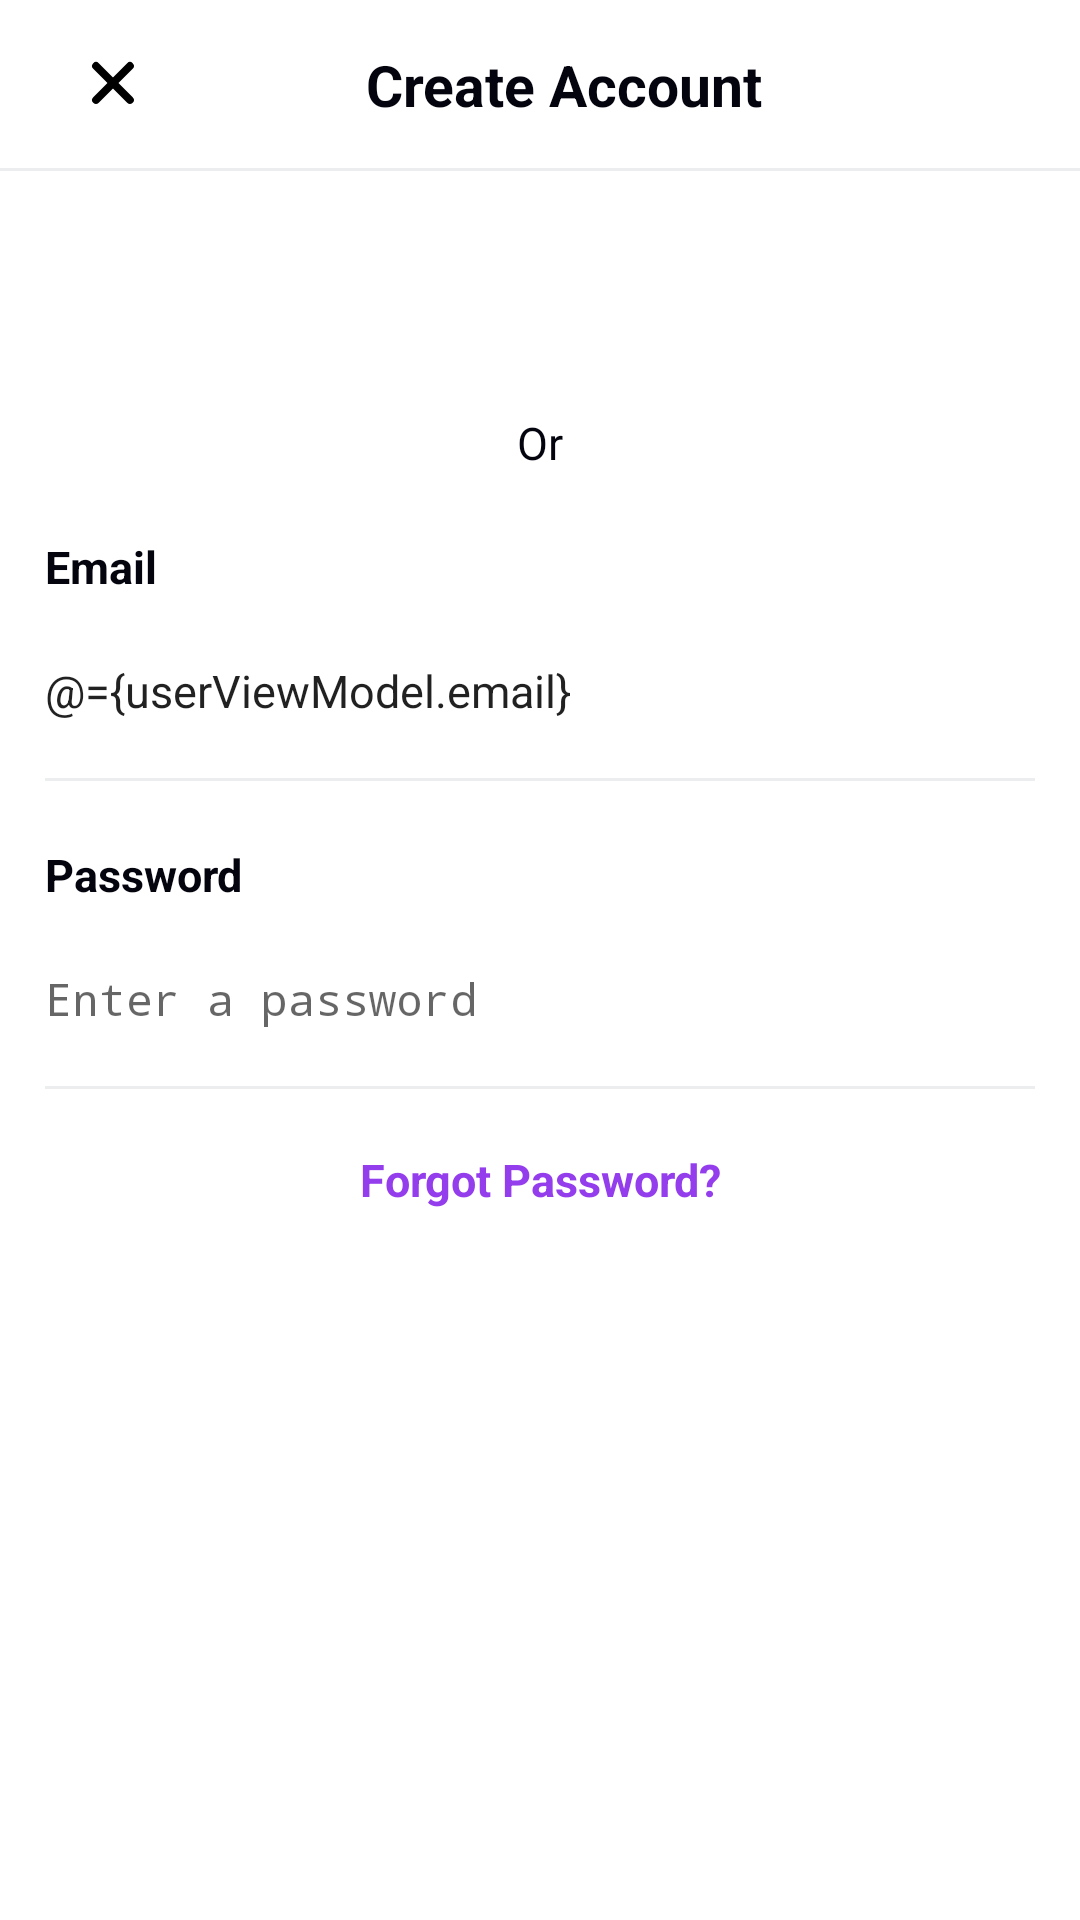

Locate icon controls on the screen. Image size 1080x1920, boxes as box=[x1, y1, x2, y2].
cancel: box=[92, 61, 134, 104]
